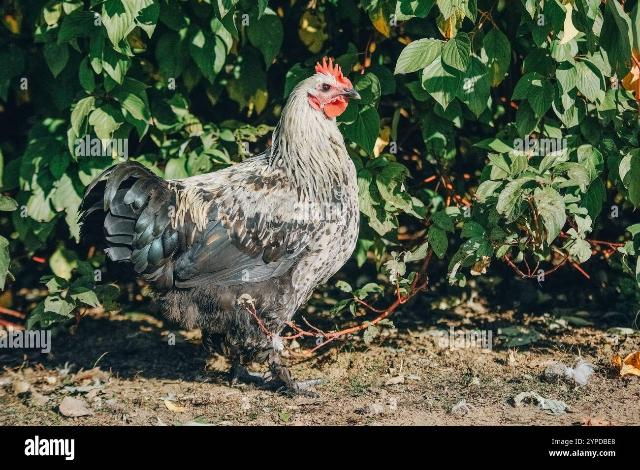Chicken: (79, 51, 366, 399)
